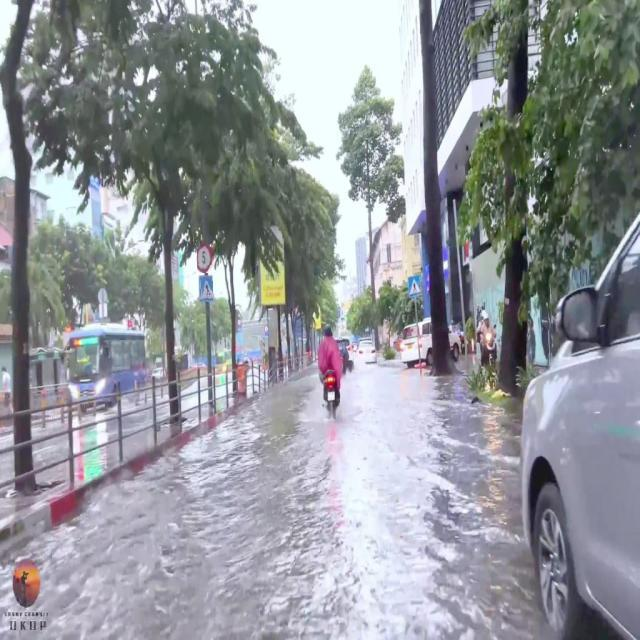224-duong-nguoi-di-bo-cat-ngang: (198, 276, 214, 302), (408, 276, 421, 297)
